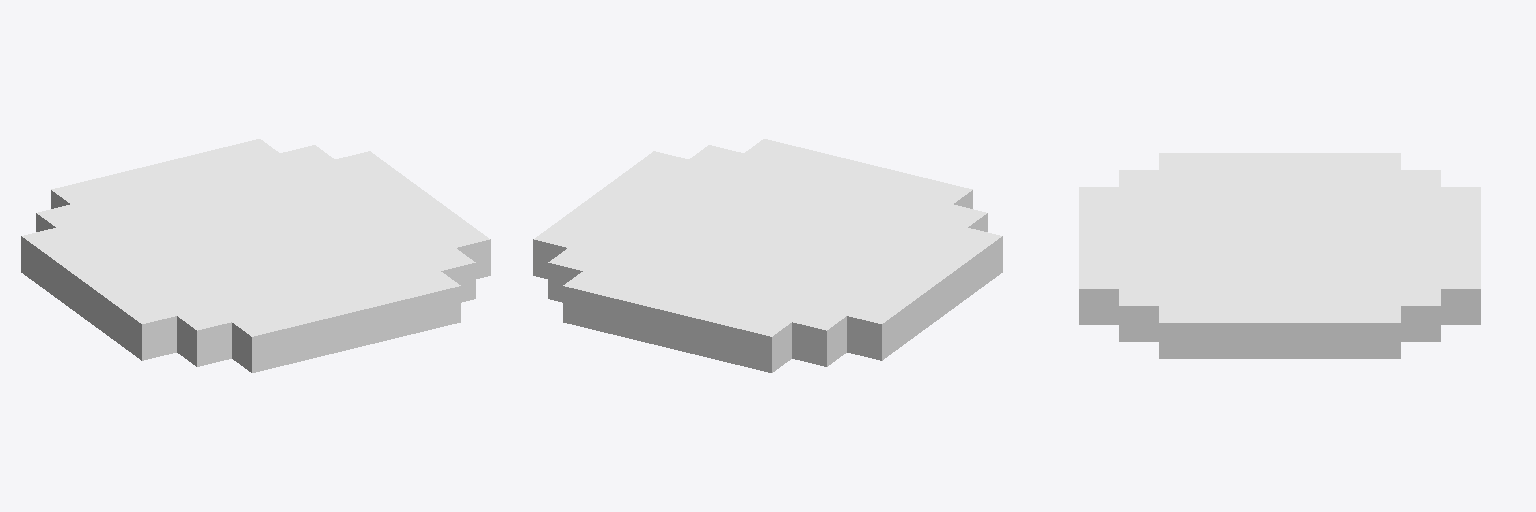
The model's file is uncooked_2.obj.
3 renders of one model, left to right at view 1: azimuth 30°, elevation 25°; view 2: azimuth 150°, elevation 25°; view 3: azimuth 270°, elevation 25°, orthographic.
Visible parts, largest first — view 1: object 1; view 2: object 1; view 3: object 1.
Boxes of the visible parts, box(x1,y1,x2,y2) form: object 1: box(21, 139, 490, 372); object 1: box(533, 139, 1002, 372); object 1: box(1079, 153, 1480, 358).
Size of the model in its own units: 1 by 0.1 by 1.